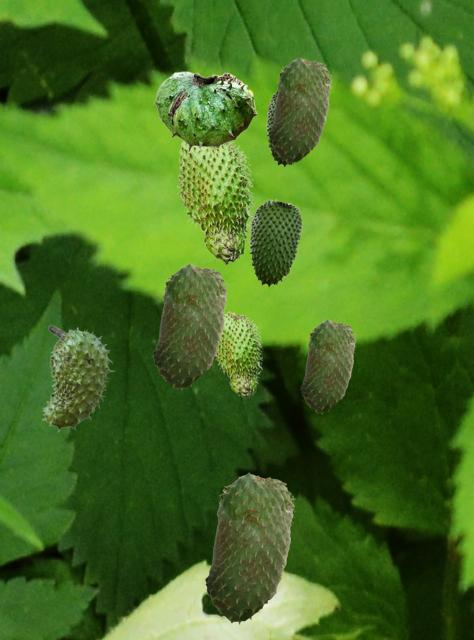guyabano: (204, 472, 294, 623), (176, 141, 254, 264), (152, 263, 227, 389), (154, 71, 256, 151), (41, 325, 114, 431), (268, 57, 331, 163), (300, 319, 355, 413), (249, 199, 301, 286), (214, 311, 262, 398), (266, 91, 296, 166)
